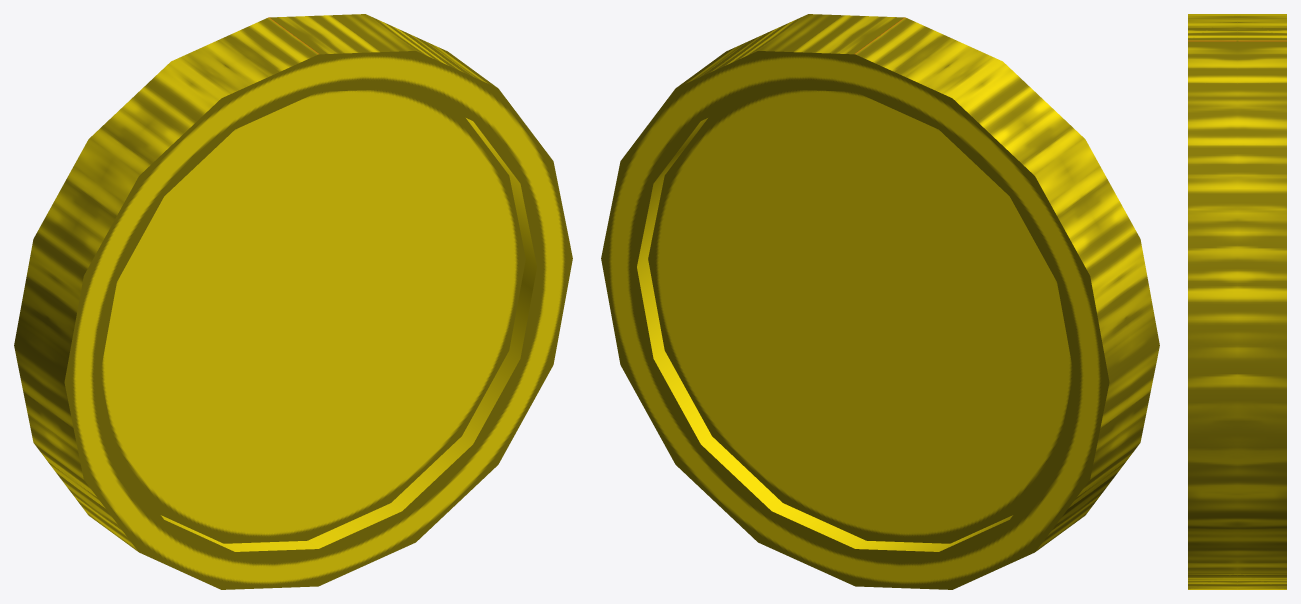
The model's file is Money.fbx.
3 renders of one model, left to right at view 1: azimuth 30°, elevation 25°; view 2: azimuth 150°, elevation 25°; view 3: azimuth 270°, elevation 25°, orthographic.
Visible parts, largest first — view 1: Cylinder.005; view 2: Cylinder.005; view 3: Cylinder.005.
Boxes of the visible parts, left/top/right/bottom form: Cylinder.005: left=14, top=14, right=572, bottom=589; Cylinder.005: left=601, top=14, right=1159, bottom=589; Cylinder.005: left=1188, top=14, right=1286, bottom=589.
Size of the model in its own units: 24.72 by 24.72 by 4.24.
Materials: 1 (1 with a texture image).
